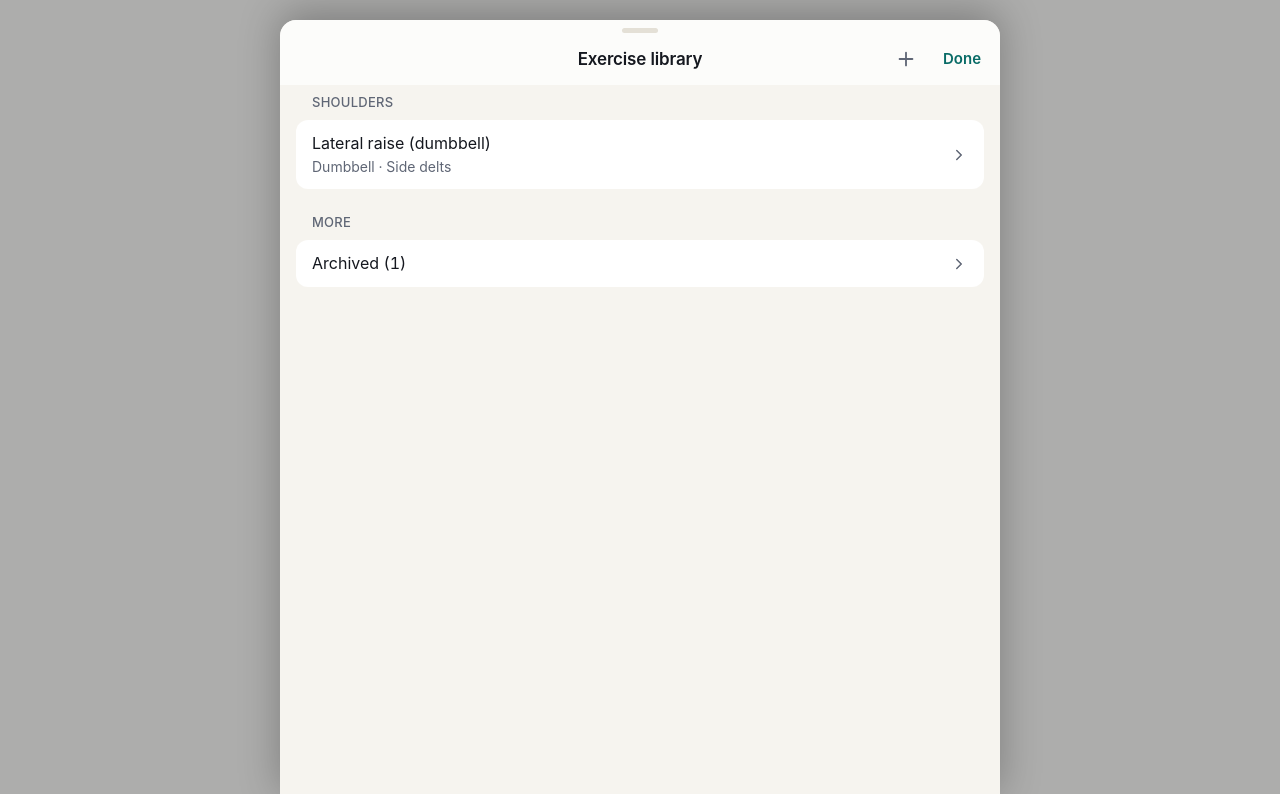
adding from the library › an exercise already added can't be added twice; an archived one is restored
Later steps or results of the test are not shown.
Click the button named "Add exercise" at (906, 59), box [884,37,928,81]
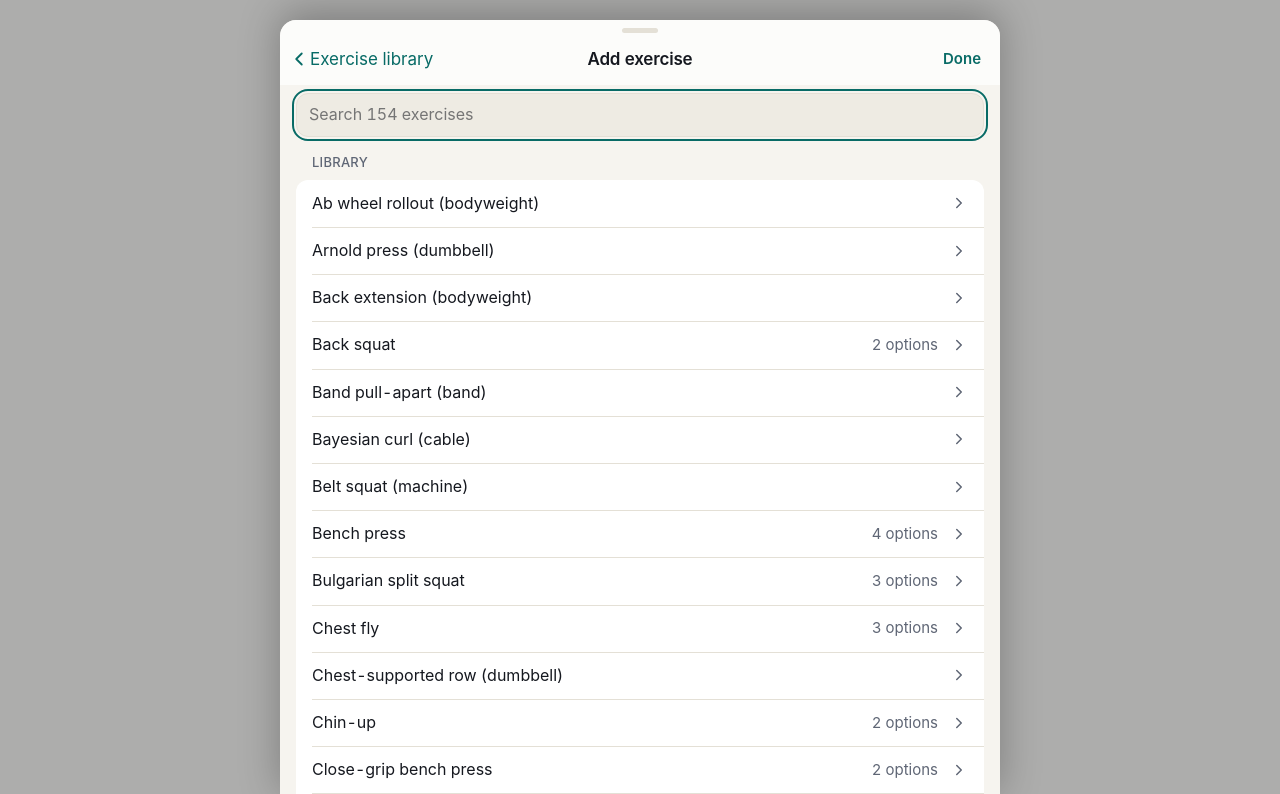
Type "lateral raise" into the search field at (640, 115), box [296,93,984,137]
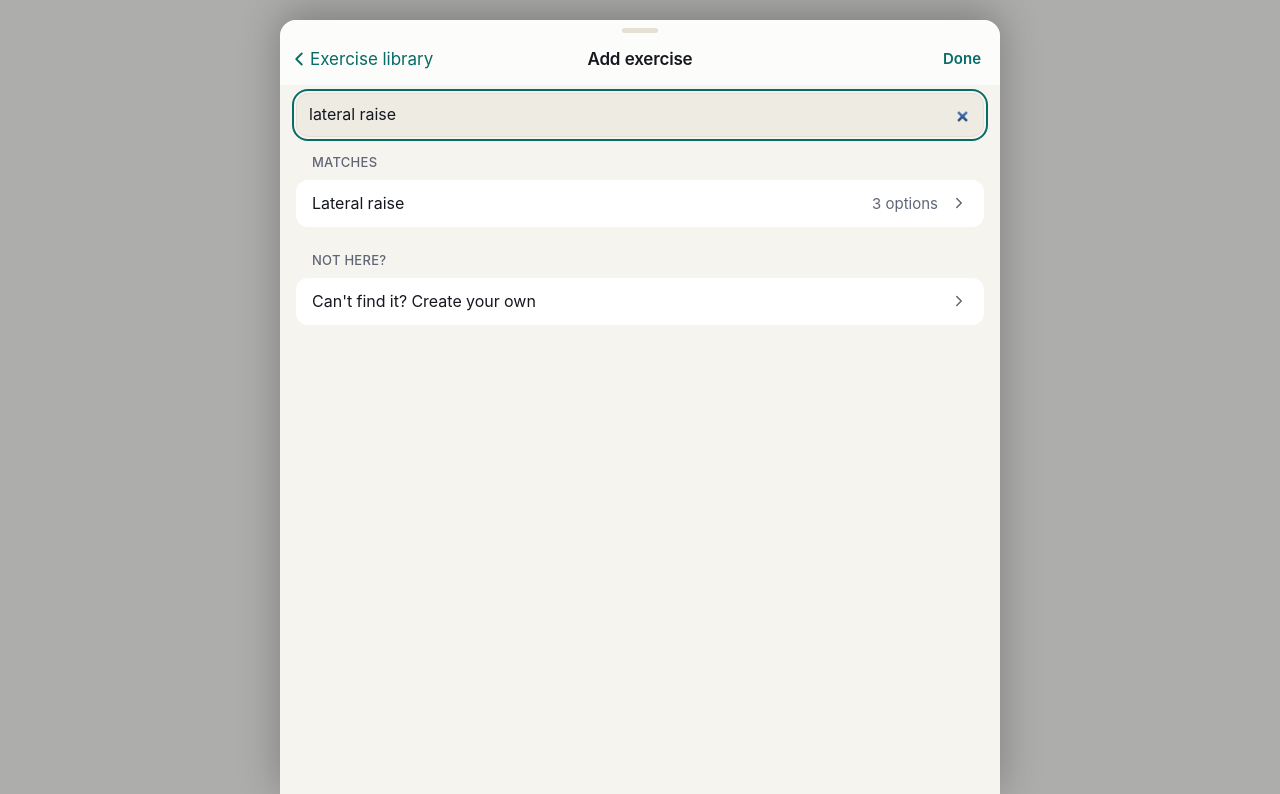
Click the button "Lateral raise 3 options" at (358, 203), box [296,180,984,227]
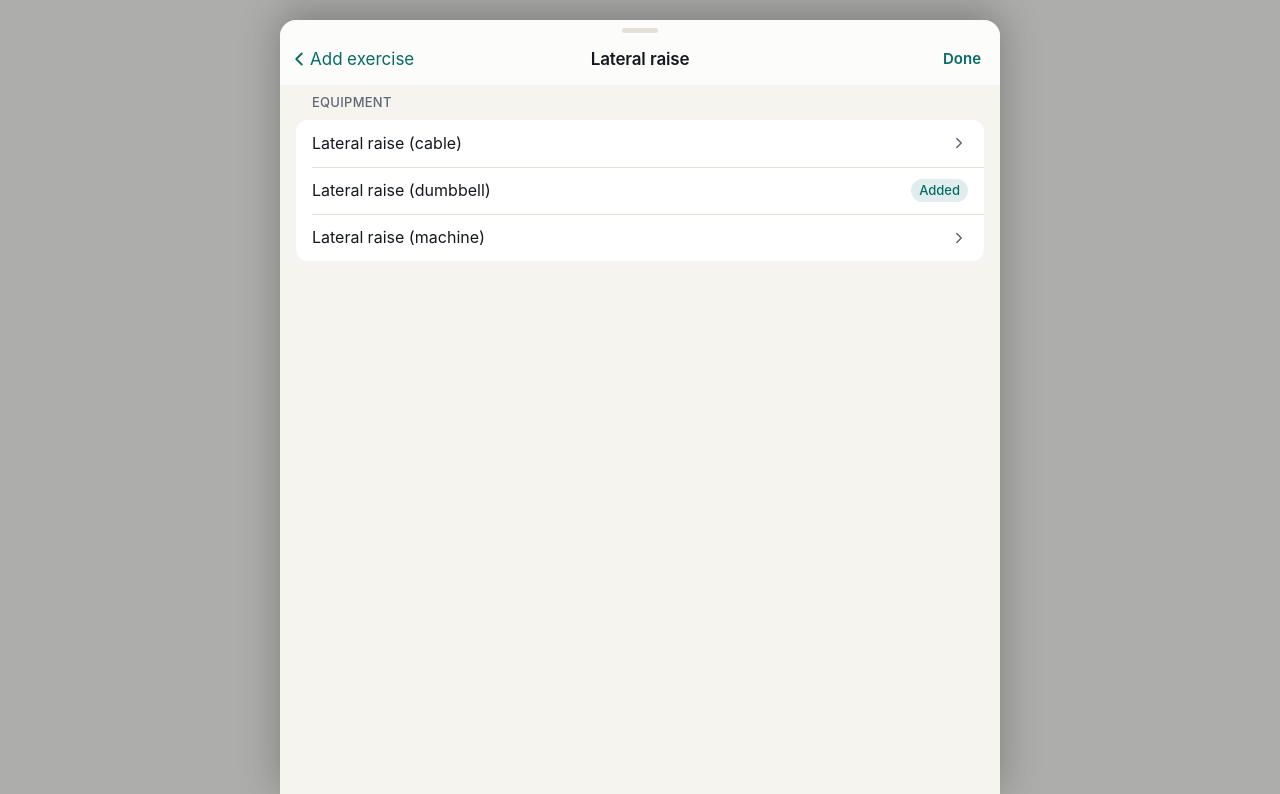
expect the button "Lateral raise (dumbbell) Added" is disabled: met, box [296,167,984,214]
expect the button "Lateral raise (dumbbell) Added" is shown: met, box [296,167,984,214]
